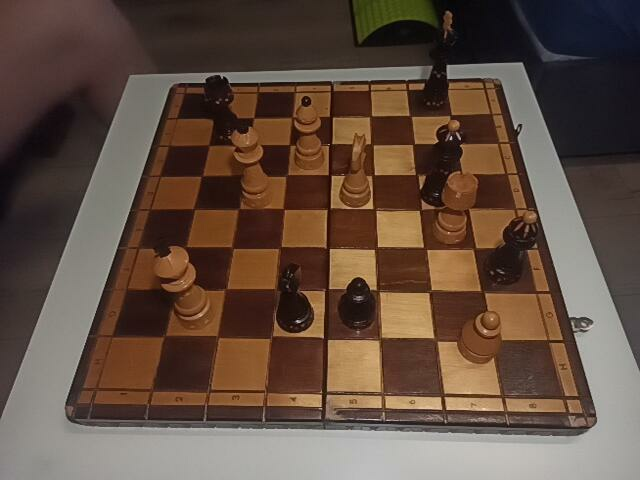B-Bishop: (488, 211, 535, 286)
B-King: (422, 10, 455, 108)
B-Knight: (273, 263, 314, 332)
B-Pawn: (341, 278, 376, 329)
B-Queen: (421, 120, 464, 208)
B-Rook: (202, 75, 244, 144)
W-Bishop: (293, 97, 324, 171)
W-King: (150, 239, 214, 328)
W-Knight: (338, 134, 373, 205)
W-Pawn: (459, 310, 502, 363)
W-Queen: (229, 123, 273, 208)
W-Rook: (435, 172, 477, 246)
